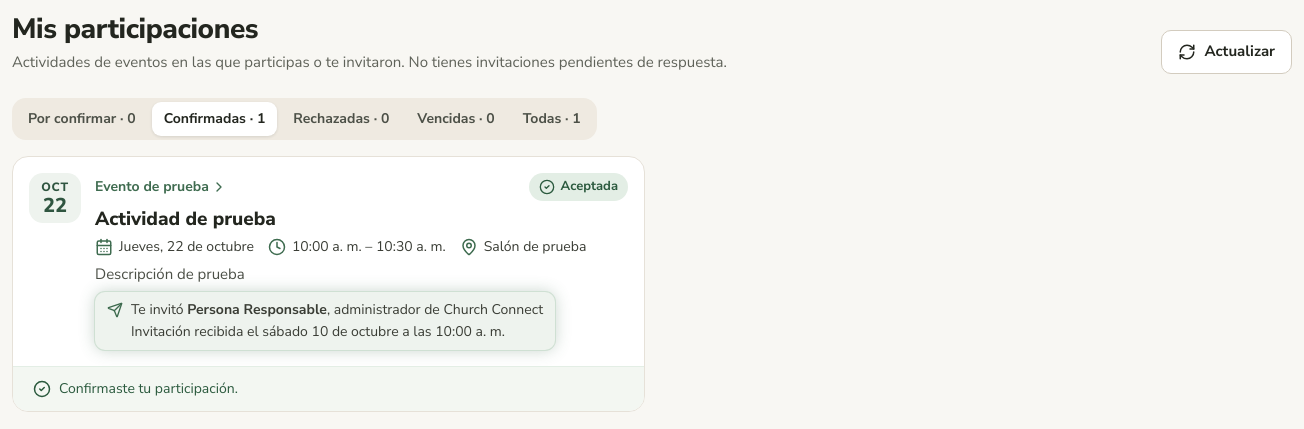
Test case: ParticipationsPage: filtros por rechazadas y vencidas › sin rechazadas ni vencidas lo dice
Click the button "Rechazadas · 0".
click(341, 118)  # box left=281, top=102, right=401, bottom=136
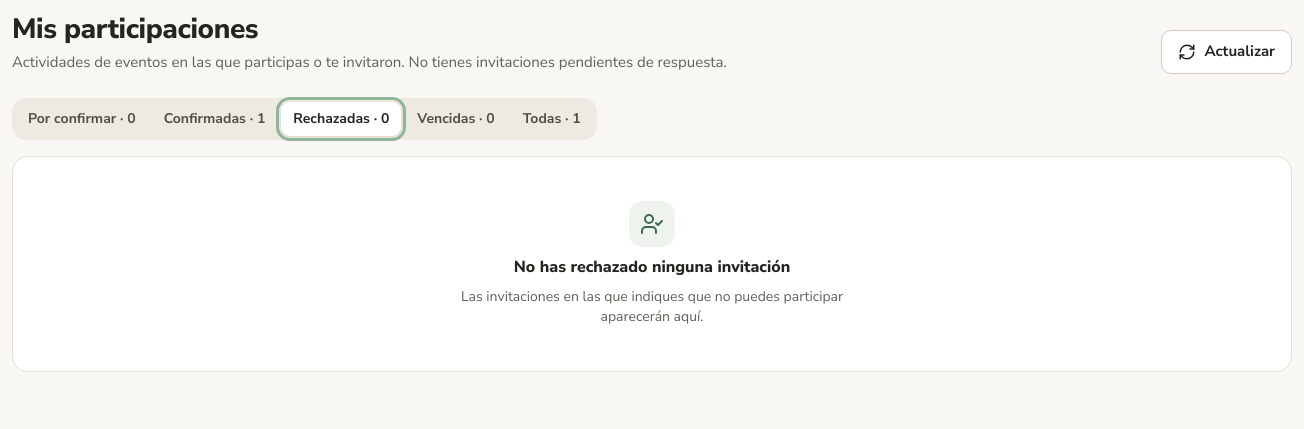
Check: the text "No has rechazado ninguna invitación" is shown, box left=514, top=254, right=790, bottom=278
Click the button "Vencidas · 0".
click(456, 118)  # box left=405, top=102, right=507, bottom=136
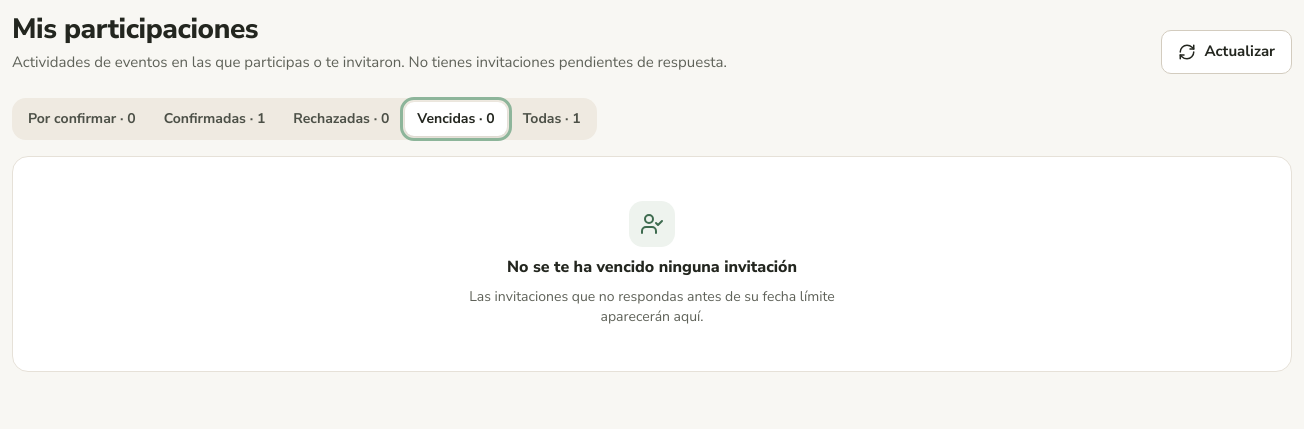
Check: the text "No se te ha vencido ninguna invitación" is shown, box left=507, top=254, right=797, bottom=278
